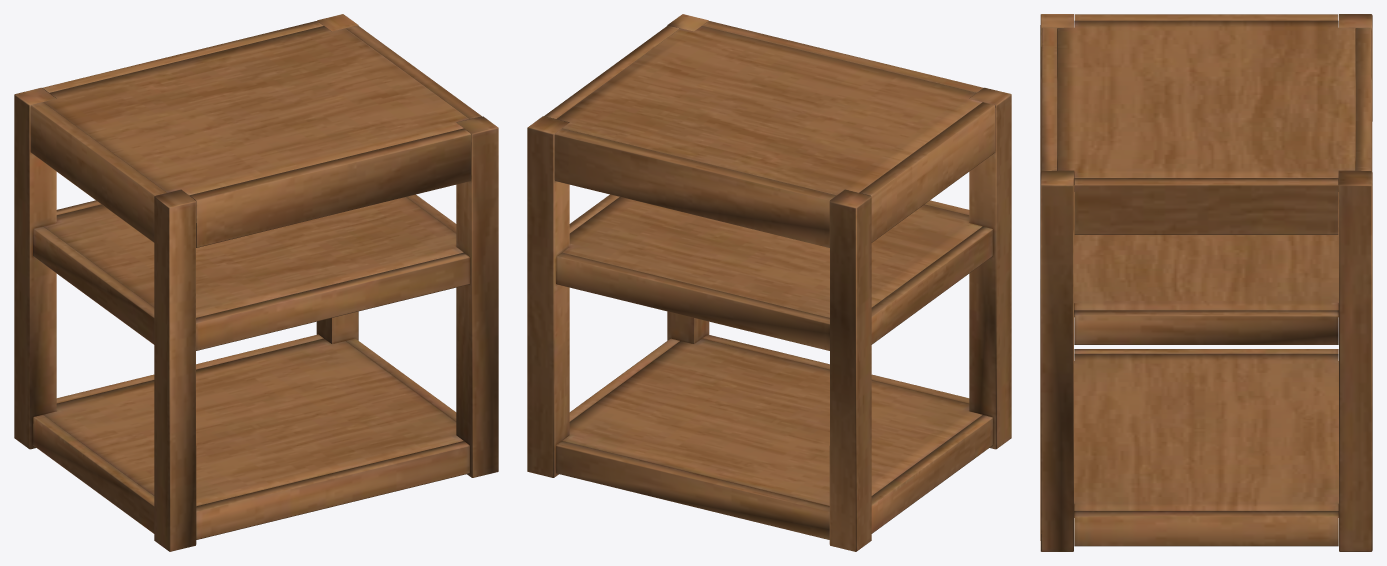
File: side_table_01.glb
The picture shows the model from 3 angles, left to right: view 1: azimuth 30°, elevation 25°; view 2: azimuth 150°, elevation 25°; view 3: azimuth 270°, elevation 25°; orthographic projection. The views are drawn at different scales.
Parts seen in each view (by area): view 1: side_table_01; view 2: side_table_01; view 3: side_table_01.
Boxes of the visible parts, left/top/right/bottom form: side_table_01: left=14, top=14, right=498, bottom=551; side_table_01: left=527, top=14, right=1011, bottom=551; side_table_01: left=1040, top=14, right=1372, bottom=551.
Size of the model in its own units: 0.55 by 0.5507 by 0.45.
Materials: 1 (1 with a texture image).
